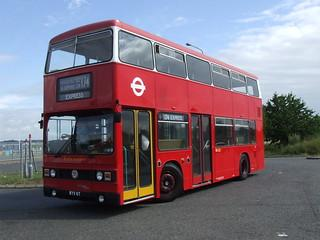bus: (41, 15, 271, 212)
